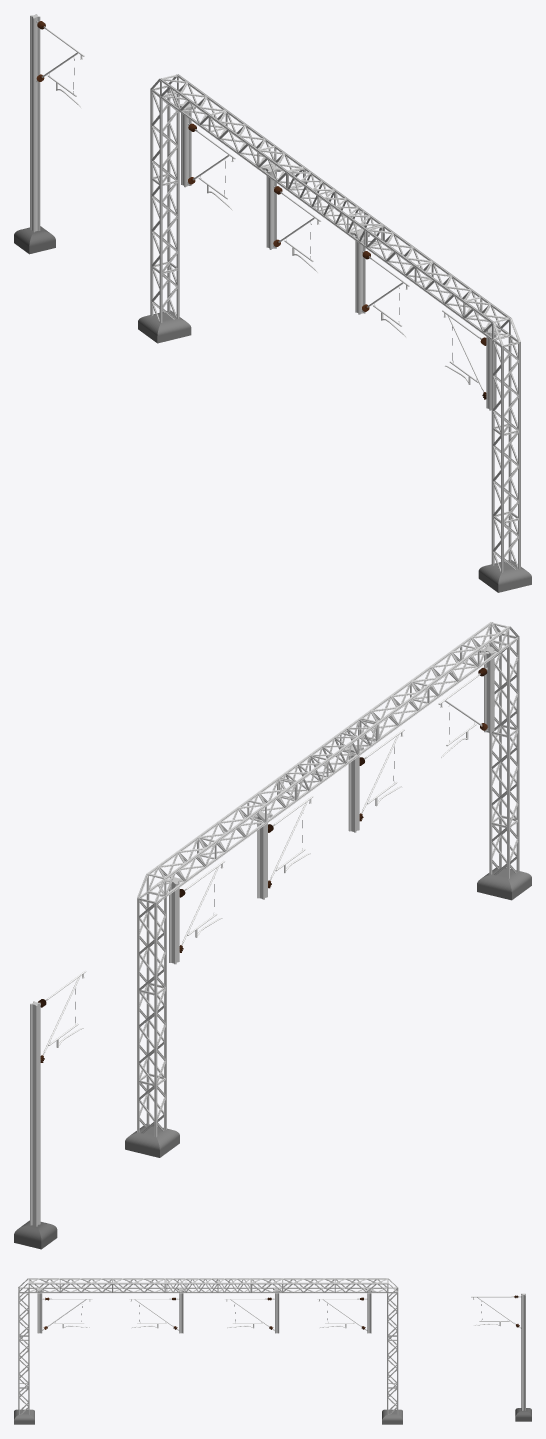
The model's file is catenary poles.fbx.
3 renders of one model, top to bottom at view 1: azimuth 30°, elevation 25°; view 2: azimuth 150°, elevation 25°; view 3: azimuth 270°, elevation 25°, orthographic. The views are drawn at different scales.
Visible parts, largest first — view 1: Cube, Cube.066, Cube.009, Cube.059, Cube.058, Cube.010, Cube.011, Cube.017, Cube.054, Cube.022, Cube.008, Cube.019 (+8 smaller); view 2: Cube, Cube.059, Cube.009, Cube.066, Cube.058, Cube.010, Cube.011, Cube.023, Cube.018, Cube.008, Cube.055, Cube.048 (+4 smaller); view 3: Cube, Cube.058, Cube.059, Cube.066, Cube.009, Cube.047, Cube.026, Cube.041, Cube.027, Cube.029, Cube.043, Cube.053 (+22 smaller).
Boxes of the visible parts, x1=… form: Cube: x1=30, y1=14, x2=40, y2=232; Cube.066: x1=262, y1=164, x2=321, y2=273; Cube.009: x1=176, y1=101, x2=235, y2=210; Cube.059: x1=350, y1=229, x2=409, y2=338; Cube.058: x1=442, y1=310, x2=500, y2=410; Cube.010: x1=138, y1=310, x2=191, y2=343; Cube.011: x1=478, y1=560, x2=531, y2=592; Cube.017: x1=159, y1=96, x2=162, y2=322; Cube.054: x1=504, y1=341, x2=518, y2=569; Cube.022: x1=162, y1=92, x2=177, y2=319; Cube.008: x1=14, y1=226, x2=55, y2=254; Cube.019: x1=176, y1=94, x2=179, y2=318; Cube: x1=30, y1=1001, x2=40, y2=1226; Cube.059: x1=344, y1=729, x2=404, y2=832; Cube.009: x1=166, y1=860, x2=224, y2=964; Cube.066: x1=255, y1=796, x2=313, y2=899; Cube.058: x1=438, y1=645, x2=498, y2=758; Cube.010: x1=125, y1=1123, x2=179, y2=1157; Cube.011: x1=477, y1=866, x2=531, y2=900; Cube.023: x1=139, y1=898, x2=154, y2=1133; Cube.018: x1=154, y1=902, x2=157, y2=1137; Cube.008: x1=14, y1=1220, x2=57, y2=1249; Cube.055: x1=491, y1=642, x2=506, y2=875; Cube.048: x1=516, y1=637, x2=519, y2=871; Cube: x1=521, y1=1293, x2=525, y2=1410; Cube.058: x1=35, y1=1287, x2=92, y2=1333; Cube.059: x1=129, y1=1287, x2=185, y2=1333; Cube.066: x1=225, y1=1287, x2=281, y2=1333; Cube.009: x1=317, y1=1287, x2=373, y2=1333; Cube.047: x1=18, y1=1282, x2=166, y2=1292; Cube.026: x1=249, y1=1282, x2=397, y2=1292; Cube.041: x1=27, y1=1291, x2=165, y2=1293; Cube.027: x1=250, y1=1291, x2=387, y2=1293; Cube.029: x1=251, y1=1284, x2=388, y2=1292; Cube.043: x1=28, y1=1284, x2=165, y2=1292; Cube.053: x1=19, y1=1292, x2=28, y2=1414.
Size of the model in its own units: 70.84 by 455 by 1529.
